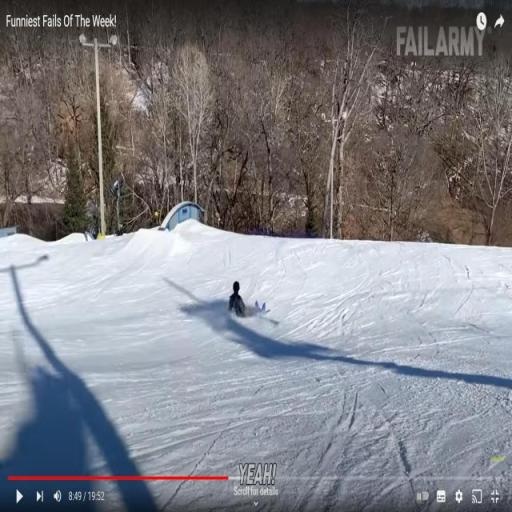Fall: (227, 276, 270, 322)
